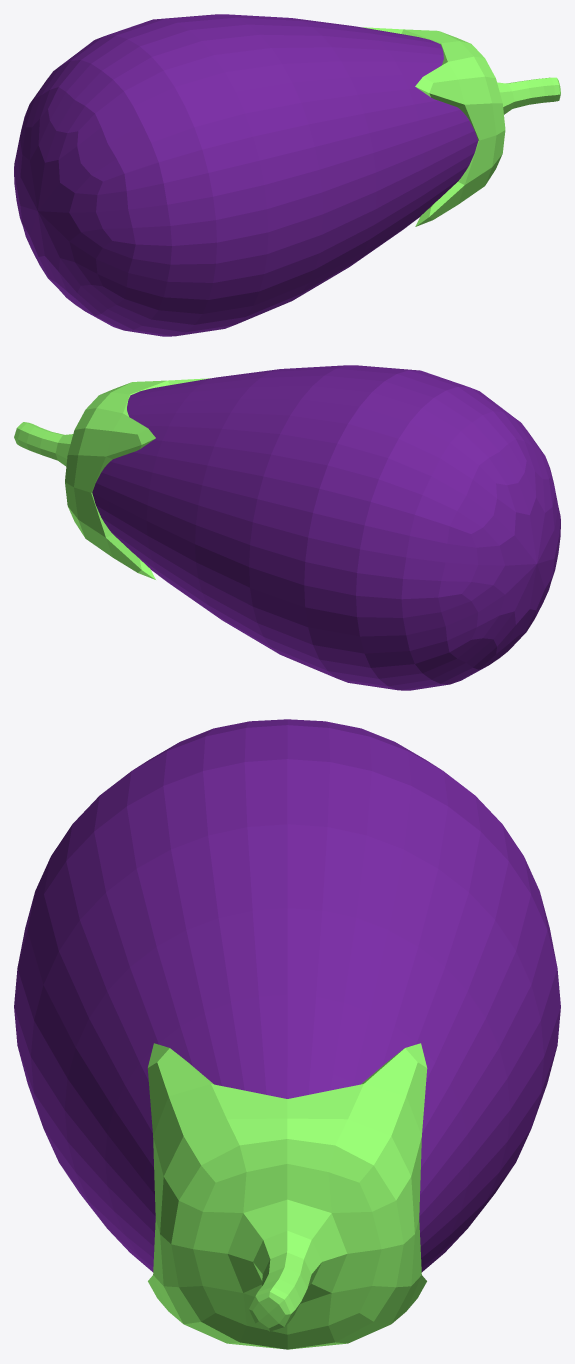
Rendered from patlıcan.fbx.
The picture shows the model from 3 angles, top to bottom: view 1: azimuth 30°, elevation 25°; view 2: azimuth 150°, elevation 25°; view 3: azimuth 270°, elevation 25°; orthographic projection. The views are drawn at different scales.
Parts seen in each view (by area): view 1: Cube.107; view 2: Cube.107; view 3: Cube.107.
Part boxes in pixels (<box>): Cube.107: <box>14,14,560,336</box>; Cube.107: <box>14,365,560,690</box>; Cube.107: <box>14,719,560,1349</box>.
Bounding box in the file's own units: 676 × 359 × 359.
